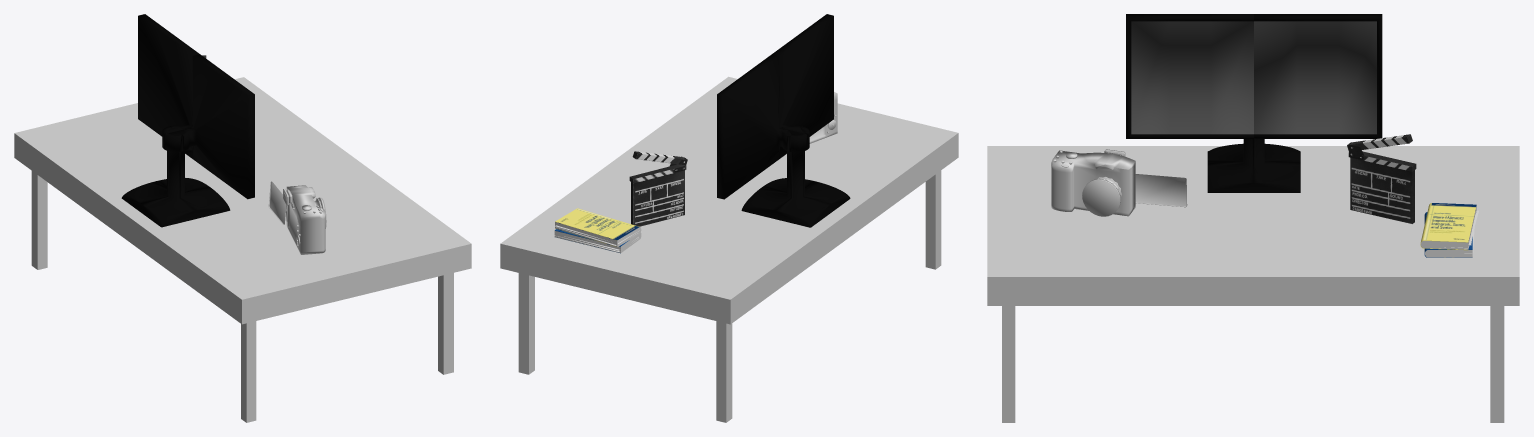
File: portfolio.glb
3 renders of one model, left to right at view 1: azimuth 30°, elevation 25°; view 2: azimuth 150°, elevation 25°; view 3: azimuth 270°, elevation 25°, orthographic. The views are drawn at different scales.
Visible parts, largest first — view 1: Cube, Cube.002, Cube.001; view 2: Cube, Cube.002, Cube.003, Plane.002, Plane.001, Cube.001; view 3: Cube, Cube.002, Cube.001, Cube.003, Plane.002, Plane.001.
Boxes of the visible parts, x1,y1,x2,y2 form: Cube: [14, 77, 471, 422]; Cube.002: [121, 14, 254, 227]; Cube.001: [268, 181, 326, 254]; Cube: [500, 76, 958, 422]; Cube.002: [717, 14, 850, 227]; Cube.003: [629, 151, 687, 226]; Plane.002: [555, 208, 641, 247]; Plane.001: [554, 229, 641, 253]; Cube.001: [809, 92, 837, 143]; Cube: [987, 146, 1519, 422]; Cube.002: [1126, 14, 1382, 192]; Cube.001: [1051, 149, 1187, 216]; Cube.003: [1347, 134, 1416, 223]; Plane.002: [1420, 203, 1478, 250]; Plane.001: [1424, 212, 1474, 257].
Size of the model in its own units: 2 by 2.29 by 3.43.
6 materials, 3 textured.
